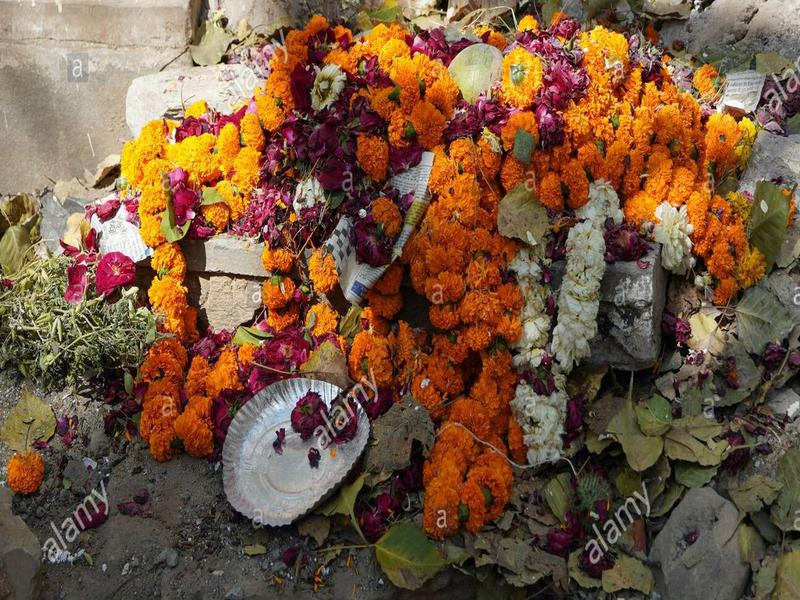flowers: (45, 12, 800, 600)
